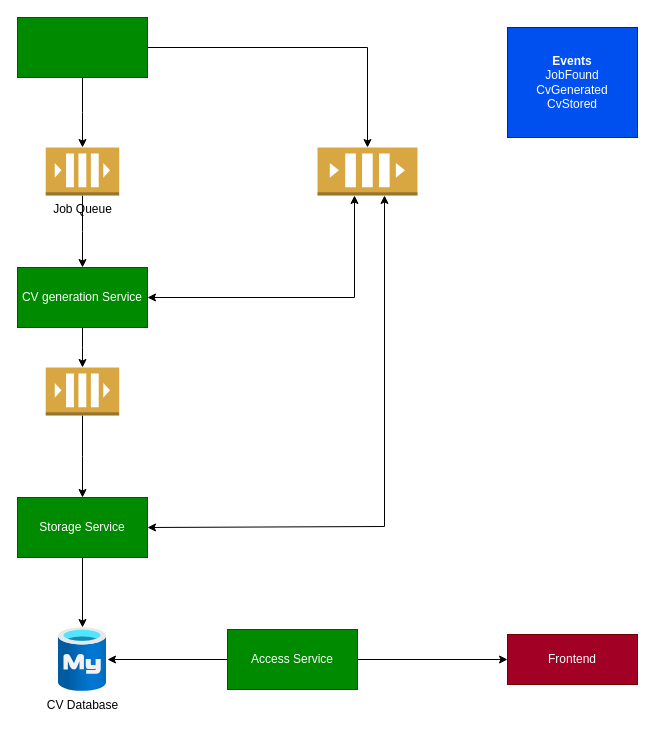
Some shapes in this 655 by 730 pixel diagram are drawn without their labels. Each missing label, with the centre of its shape:
"CV Queue" goes at point (82, 391).
"Events Queue" goes at point (367, 171).
"Job Matching Service" goes at point (82, 47).
